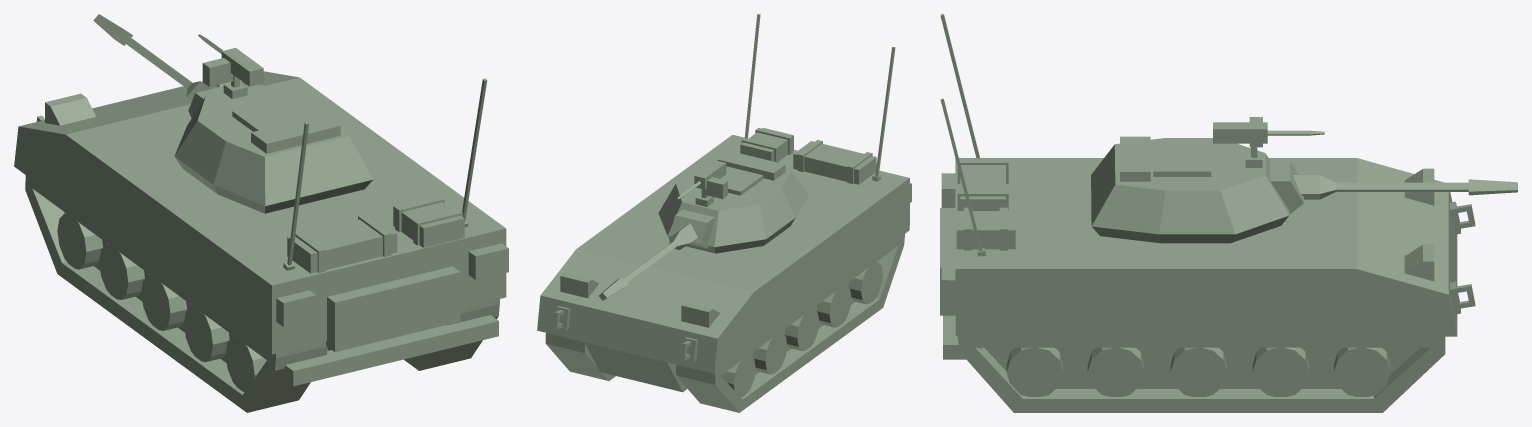
File: apc_02_body.fbx
3 renders of one model, left to right at view 1: azimuth 30°, elevation 25°; view 2: azimuth 150°, elevation 25°; view 3: azimuth 270°, elevation 25°, orthographic. The views are drawn at different scales.
Parts seen in each view (by area): view 1: apc_02_body, turret, barrel, lid01; view 2: apc_02_body, turret, barrel, lid01; view 3: apc_02_body, turret, barrel, lid01.
Boxes of the visible parts, bbox=[...] form: apc_02_body: bbox=[14, 71, 508, 412]; turret: bbox=[174, 34, 372, 213]; barrel: bbox=[93, 14, 223, 118]; lid01: bbox=[232, 98, 309, 131]; apc_02_body: bbox=[537, 14, 911, 412]; turret: bbox=[658, 151, 809, 253]; barrel: bbox=[599, 209, 714, 300]; lid01: bbox=[720, 166, 763, 195]; apc_02_body: bbox=[940, 14, 1475, 412]; turret: bbox=[1091, 117, 1324, 243]; barrel: bbox=[1270, 161, 1517, 213]; lid01: bbox=[1153, 147, 1211, 176].
Size of the model in its own units: 4.35 by 5.53 by 9.56.
